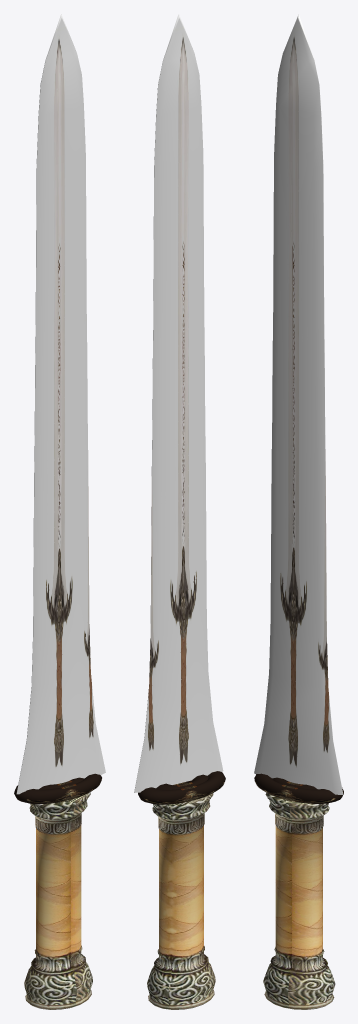
The model's file is Monster_M_Sword4.FBX.
3 renders of one model, left to right at view 1: azimuth 30°, elevation 25°; view 2: azimuth 210°, elevation 25°; view 3: azimuth 330°, elevation 25°, orthographic.
Parts seen in each view (by area): view 1: wew; view 2: wew; view 3: wew.
Part boxes in pixels (x1,y1,x2,y2): wew: (14,14,105,1009); wew: (134,14,225,1009); wew: (254,14,343,1009).
Size of the model in its own units: 2.42 by 1.45 by 25.46.
